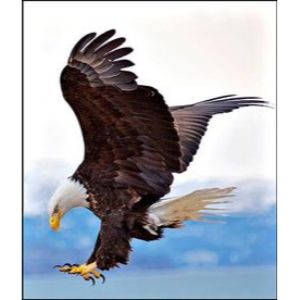eagle: (39, 32, 275, 286)
